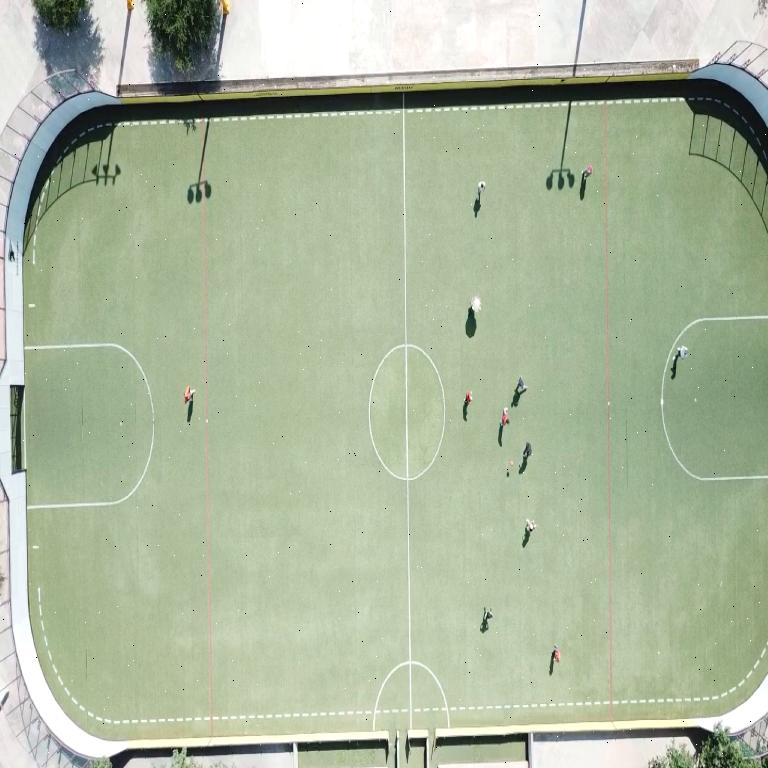AC: (25, 343, 152, 509), (660, 315, 767, 482)
B: (510, 460, 514, 465)
MC: (403, 93, 411, 728)
P: (515, 377, 527, 394), (183, 386, 194, 404), (499, 408, 508, 427), (470, 296, 480, 313), (581, 165, 591, 181), (676, 346, 687, 360), (522, 443, 531, 460), (477, 181, 485, 200), (525, 519, 535, 534), (552, 645, 560, 663), (483, 608, 492, 622), (464, 391, 471, 405)
